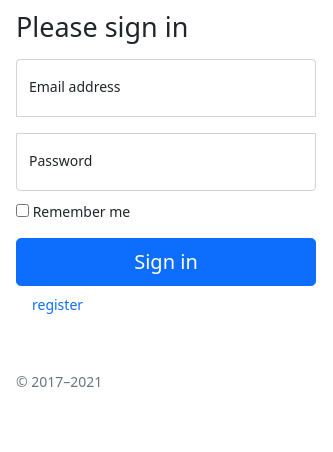
Scenario: login describe statement › Validate password length
This screenshot has width=333, height=452.
In the password field labelled "Password": (166, 162) [16,133,316,191], type "pass"
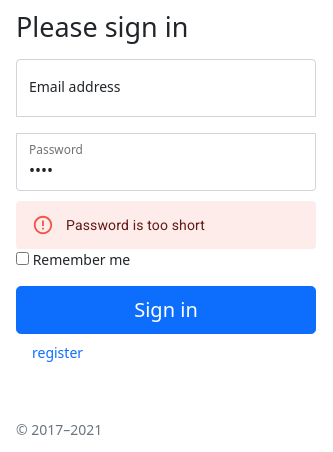
Result: the text "Password is too short" is shown at [66,217,205,233]
In the password field labelled "Password": (166, 162) [16,133,316,191], type "examplepass"
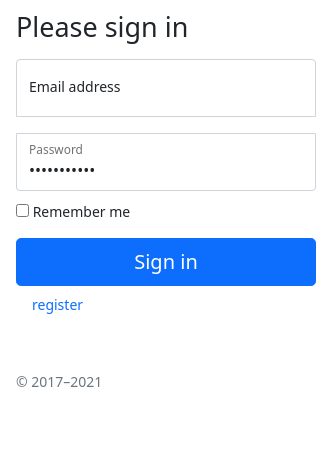
Result: the text "Password is too short" is gone
